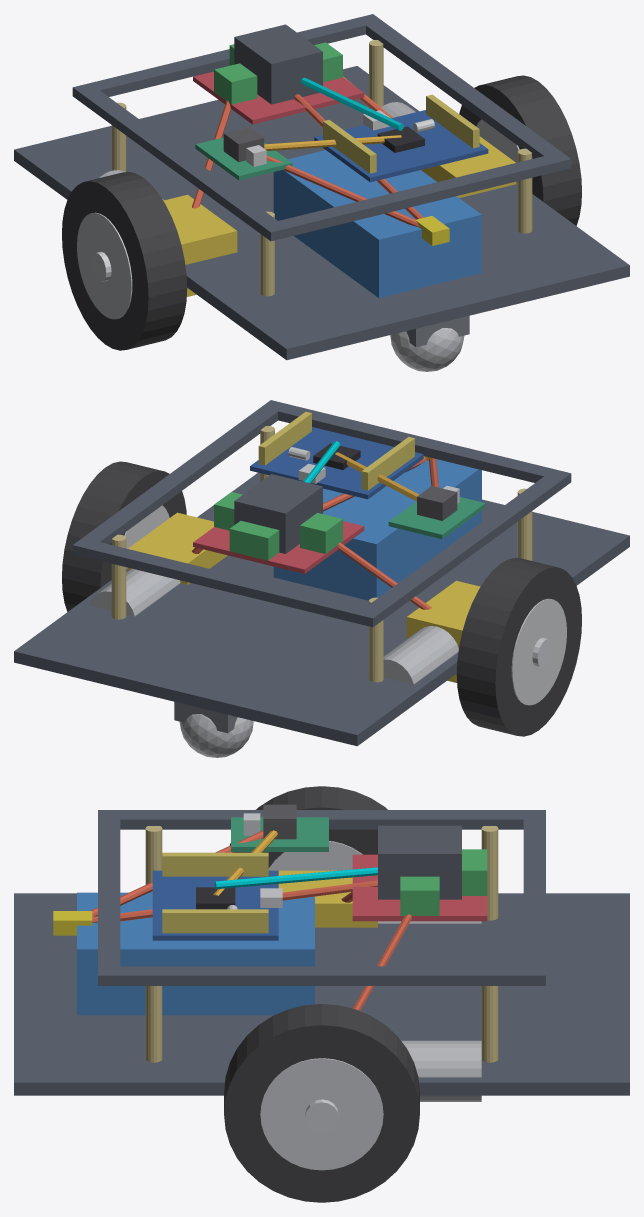
The model's file is diff_car_teaching.glb.
3 views of the same model, one above another, from view 1: azimuth 30°, elevation 25°; view 2: azimuth 150°, elevation 25°; view 3: azimuth 270°, elevation 25° (orthographic). The views are drawn at different scales.
Parts seen in each view (by area): view 1: Node_Frame, Node_LeftWheel, Node_Battery, Node_MotorDriver, Node_STM32, Node_RightWheel, Node_LeftMotor, Node_PowerWires, Node_Casters, Node_BuckConverter, Node_RightMotor, Node_SignalWires; view 2: Node_Frame, Node_LeftWheel, Node_Battery, Node_MotorDriver, Node_STM32, Node_RightWheel, Node_LeftMotor, Node_RightMotor, Node_BuckConverter, Node_Casters, Node_PowerWires; view 3: Node_Frame, Node_RightWheel, Node_Battery, Node_MotorDriver, Node_STM32, Node_LeftWheel, Node_BuckConverter, Node_RightMotor, Node_PowerWires, Node_LeftMotor, Node_SignalWires.
Part boxes in pixels (<box>): Node_Frame: <box>14,14,629,360</box>; Node_LeftWheel: <box>62,172,187,350</box>; Node_Battery: <box>273,150,481,297</box>; Node_MotorDriver: <box>193,24,364,124</box>; Node_STM32: <box>314,94,488,182</box>; Node_RightWheel: <box>459,75,581,225</box>; Node_LeftMotor: <box>99,170,237,296</box>; Node_PowerWires: <box>192,76,423,227</box>; Node_Casters: <box>390,315,469,371</box>; Node_BuckConverter: <box>195,127,292,180</box>; Node_RightMotor: <box>381,102,516,197</box>; Node_SignalWires: <box>300,77,403,130</box>; Node_Frame: <box>14,400,629,746</box>; Node_LeftWheel: <box>456,558,581,736</box>; Node_Battery: <box>273,456,481,600</box>; Node_MotorDriver: <box>193,474,364,573</box>; Node_STM32: <box>250,411,423,499</box>; Node_RightWheel: <box>62,461,186,611</box>; Node_LeftMotor: <box>368,580,480,684</box>; Node_RightMotor: <box>89,512,227,616</box>; Node_BuckConverter: <box>388,485,485,539</box>; Node_Casters: <box>174,701,253,757</box>; Node_PowerWires: <box>192,452,438,609</box>; Node_Frame: <box>14,810,629,1095</box>; Node_RightWheel: <box>224,1004,419,1202</box>; Node_Battery: <box>53,892,314,1015</box>; Node_MotorDriver: <box>352,825,487,921</box>; Node_STM32: <box>152,852,282,940</box>; Node_LeftWheel: <box>229,786,387,870</box>; Node_BuckConverter: <box>231,804,328,851</box>; Node_RightMotor: <box>401,1040,481,1101</box>; Node_PowerWires: <box>90,830,411,1010</box>; Node_LeftMotor: <box>278,870,481,927</box>; Node_SignalWires: <box>214,867,377,889</box>.
Bounding box in the file's own units: 0.208 × 0.096 × 0.22.
